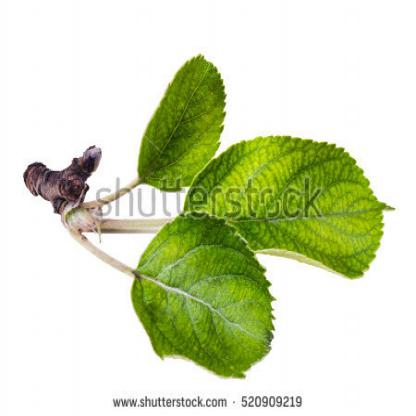Apple leaf: (185, 119, 396, 295), (120, 214, 287, 387), (136, 45, 239, 188)
